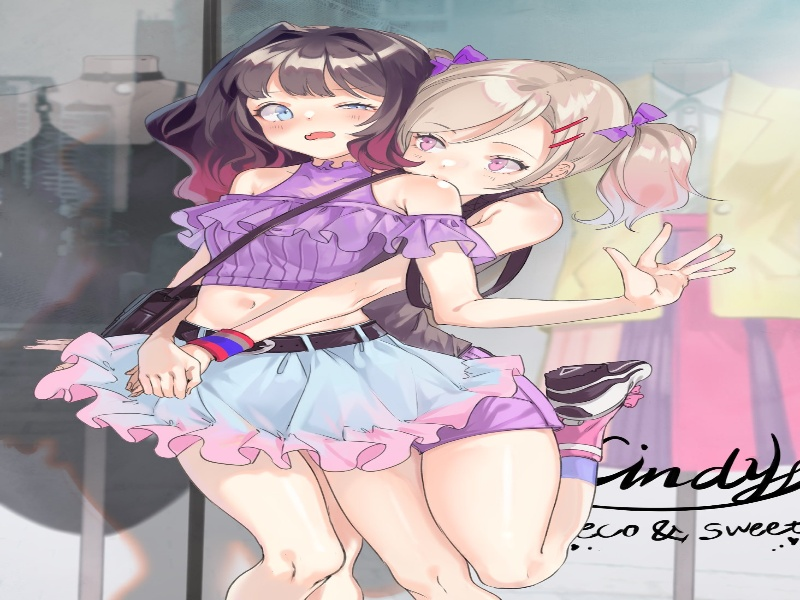person: (399, 101, 566, 215), (233, 61, 398, 165)
